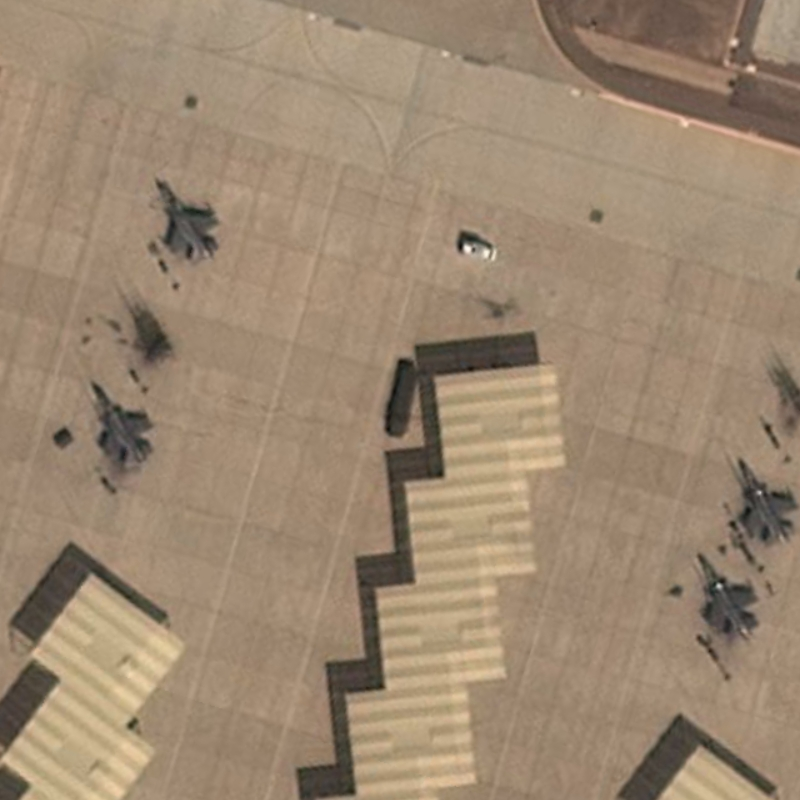A5: (695, 546, 764, 648), (150, 174, 224, 268), (733, 452, 800, 550), (88, 379, 158, 471)
